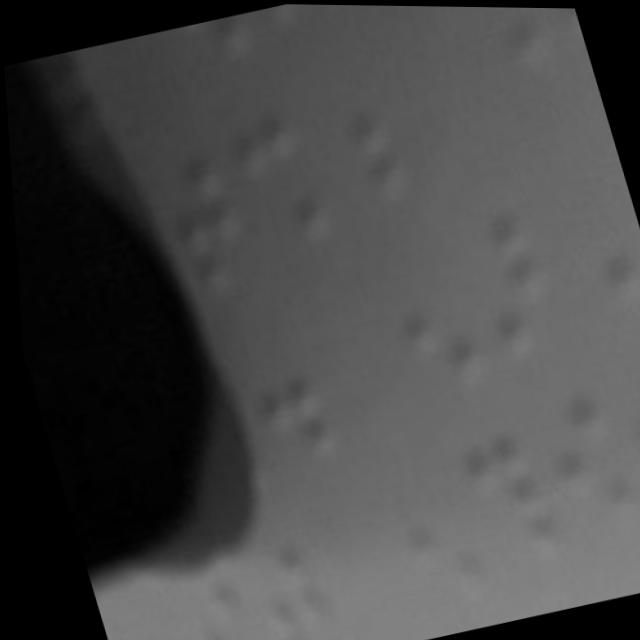braiile: (148, 147, 271, 305), (520, 387, 640, 547), (377, 454, 489, 610), (381, 244, 490, 404), (226, 316, 337, 473), (449, 208, 557, 363), (451, 432, 558, 581), (532, 173, 639, 319), (607, 352, 640, 496)
